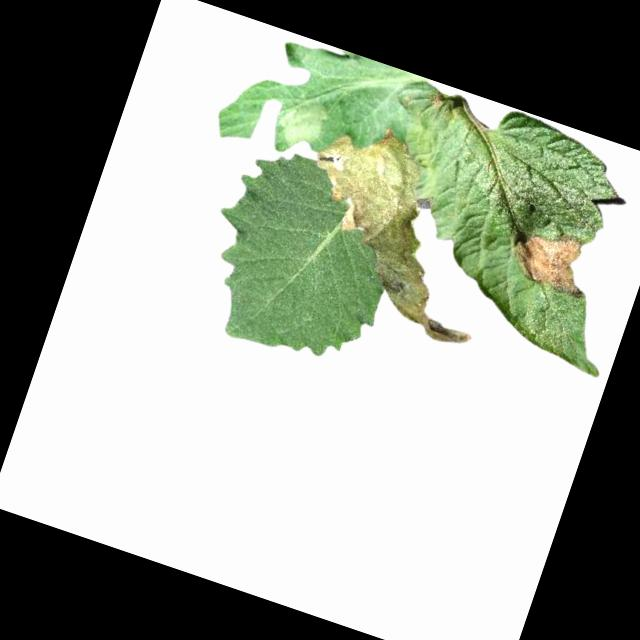Late_blight: (273, 110, 529, 352), (502, 218, 601, 298), (268, 87, 329, 154)
healthy: (184, 136, 418, 379)
